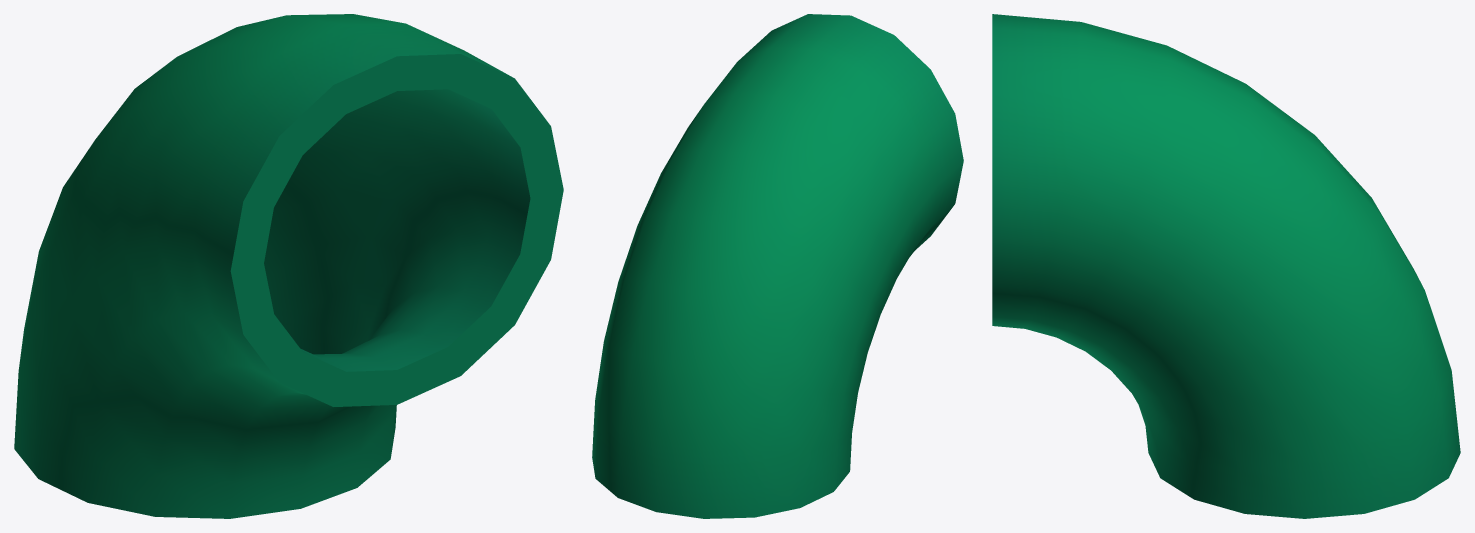
The model's file is pipe_90_A_green.glb.
3 views of the same model, side by side, from view 1: azimuth 30°, elevation 25°; view 2: azimuth 150°, elevation 25°; view 3: azimuth 270°, elevation 25° (orthographic). The views are drawn at different scales.
Visible parts, largest first — view 1: pipe_90_A_green; view 2: pipe_90_A_green; view 3: pipe_90_A_green.
Boxes of the visible parts, bbox=[...] form: pipe_90_A_green: bbox=[14, 14, 563, 518]; pipe_90_A_green: bbox=[592, 14, 963, 518]; pipe_90_A_green: bbox=[992, 14, 1460, 518].
Bounding box in the file's own units: 2 × 3 × 3.
Materials: 1 (1 with a texture image).
